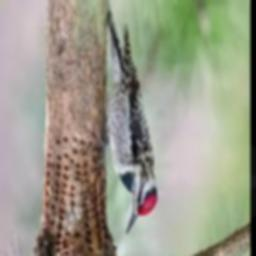Woodpecker: (104, 6, 156, 236)
